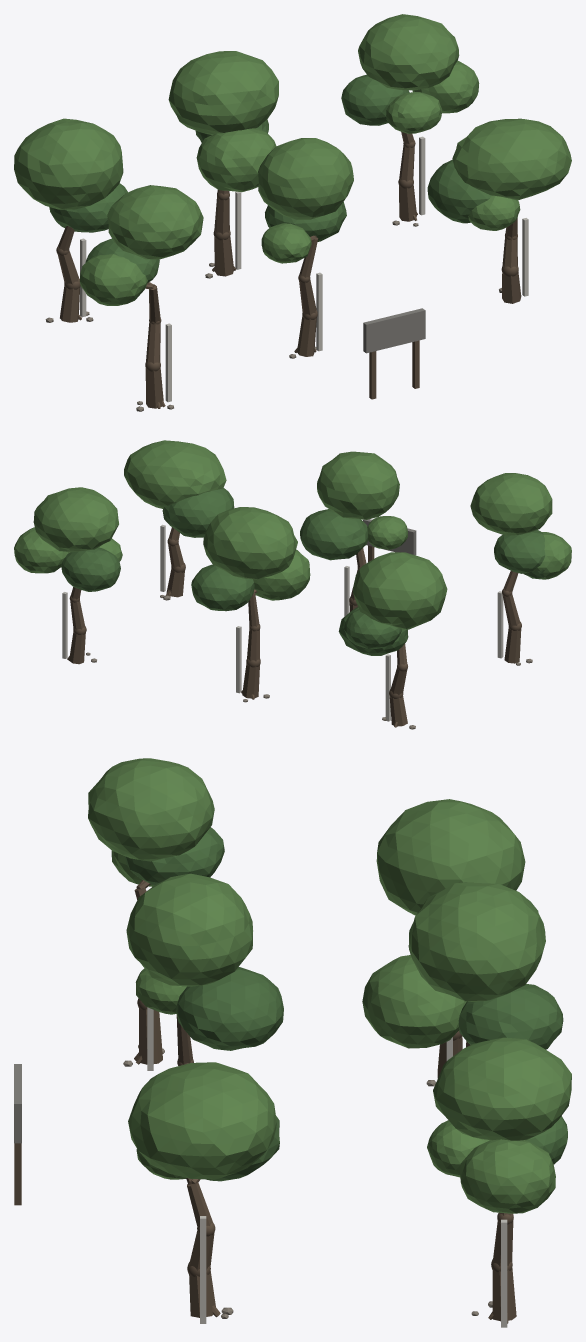
Rendered from new_forest_lvl1.glb.
The picture shows the model from 3 angles, top to bottom: view 1: azimuth 30°, elevation 25°; view 2: azimuth 150°, elevation 25°; view 3: azimuth 270°, elevation 25°; orthographic projection. The views are drawn at different scales.
Parts seen in each view (by area): view 1: new_forest; view 2: new_forest; view 3: new_forest.
Part boxes in pixels (x1,y1,x2,y2): new_forest: (14,14,571,411); new_forest: (14,440,571,729); new_forest: (14,758,571,1327).
Bounding box in the file's own units: 0.8369 × 0.3342 × 0.5687.
